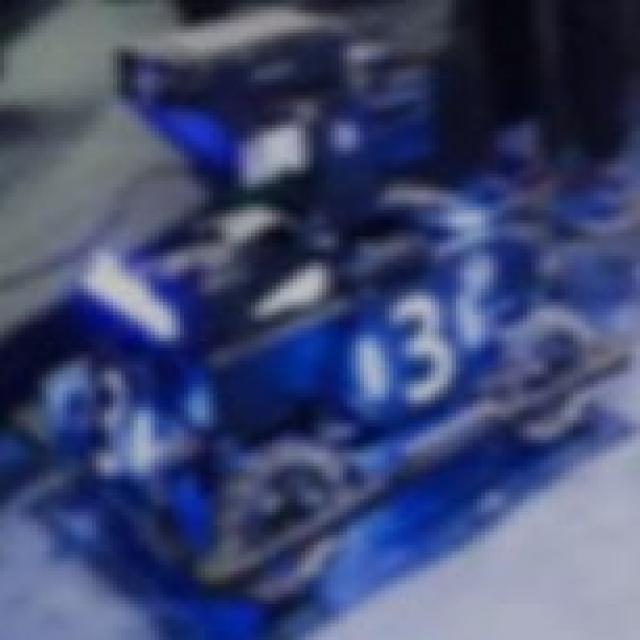B3: (352, 289, 489, 407)
